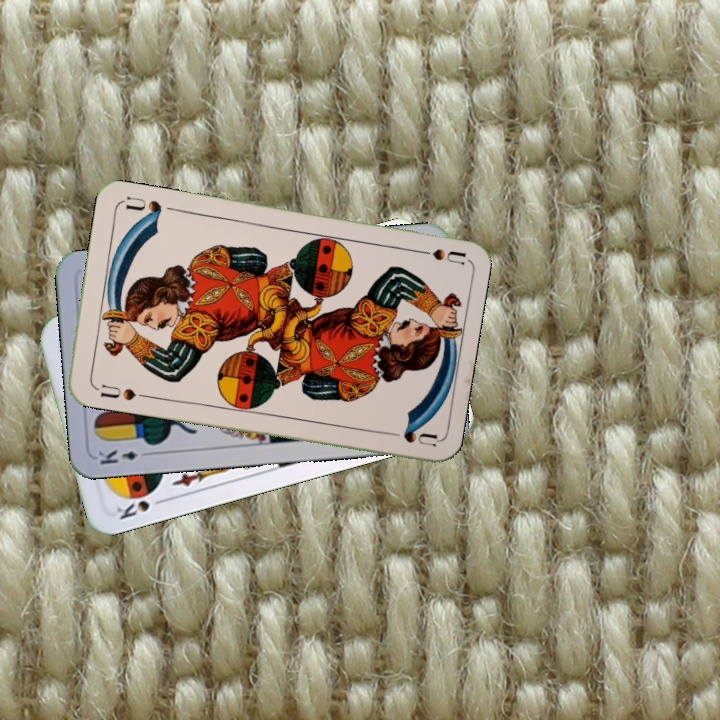EK: (94, 446, 154, 467)
SK: (112, 485, 169, 522)
SU: (90, 380, 149, 403), (407, 244, 466, 267)
